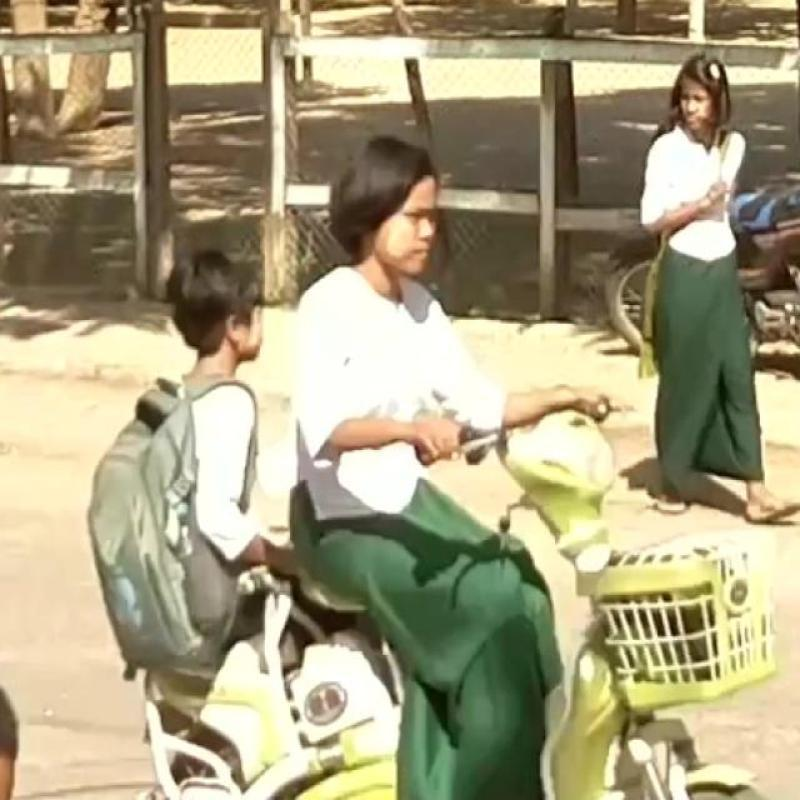nohelmet: (325, 110, 470, 285), (178, 246, 272, 366)
